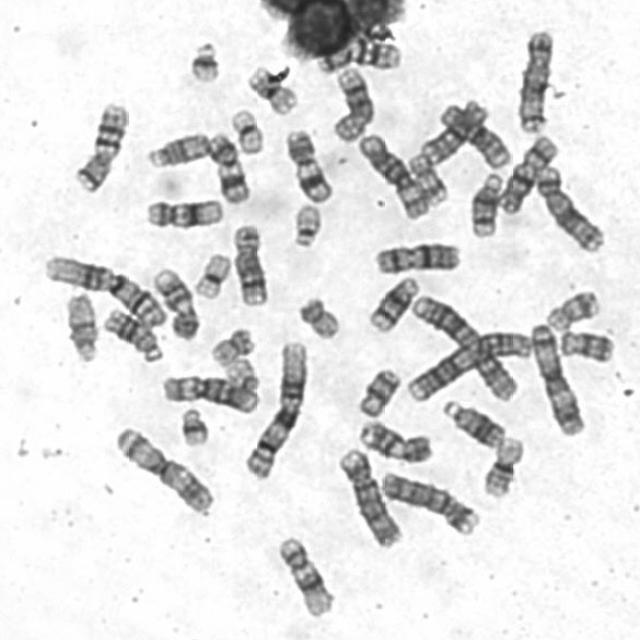A1: (37, 249, 170, 330), (240, 336, 310, 481)
A2: (405, 290, 522, 403), (401, 326, 534, 404)
A3: (110, 422, 216, 516), (525, 317, 588, 438)
B4: (376, 466, 482, 538), (334, 444, 404, 549)
B5: (531, 162, 607, 254), (512, 25, 556, 135)
C10: (432, 103, 512, 172), (415, 95, 489, 166)
C11: (280, 125, 335, 205), (204, 127, 252, 205)
C12: (272, 532, 336, 620), (140, 194, 225, 232)
C6: (354, 129, 434, 222), (157, 370, 260, 415)
C7: (69, 98, 130, 193), (312, 38, 402, 76)
C8: (327, 61, 375, 143), (227, 218, 270, 308)
C9: (148, 263, 201, 342), (354, 415, 436, 465)
D13: (99, 302, 164, 364), (438, 394, 507, 450)
D14: (363, 272, 421, 334), (465, 167, 505, 240)
D15: (60, 289, 101, 364), (141, 128, 212, 171)
E16: (478, 432, 526, 500), (242, 62, 298, 117)
E17: (540, 286, 602, 334), (404, 151, 449, 206)
E18: (353, 363, 402, 419), (554, 326, 616, 364)
F19: (188, 249, 233, 301), (225, 104, 266, 156)
F20: (294, 292, 342, 341), (207, 323, 256, 368)
G21: (184, 36, 222, 85), (175, 403, 210, 449)
G22: (288, 199, 324, 250), (220, 353, 261, 391)
X: (495, 130, 561, 217), (370, 238, 463, 275)
